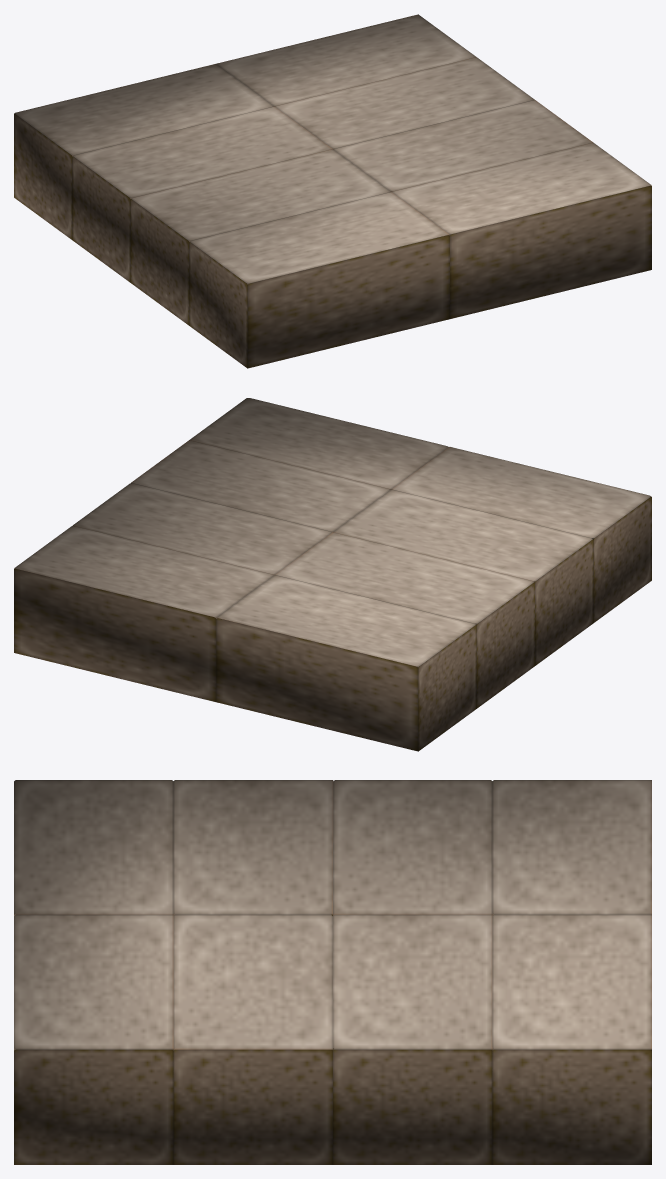
The picture shows the model from 3 angles, top to bottom: view 1: azimuth 30°, elevation 25°; view 2: azimuth 150°, elevation 25°; view 3: azimuth 270°, elevation 25°; orthographic projection. The views are drawn at different scales.
Parts seen in each view (by area): view 1: T1L8M001_12; view 2: T1L8M001_12; view 3: T1L8M001_12.
Boxes of the visible parts, x1,y1,x2,y2 form: T1L8M001_12: (14, 14, 651, 368); T1L8M001_12: (14, 398, 651, 751); T1L8M001_12: (14, 780, 651, 1164).
Size of the model in its own units: 2 by 0.3994 by 2.
